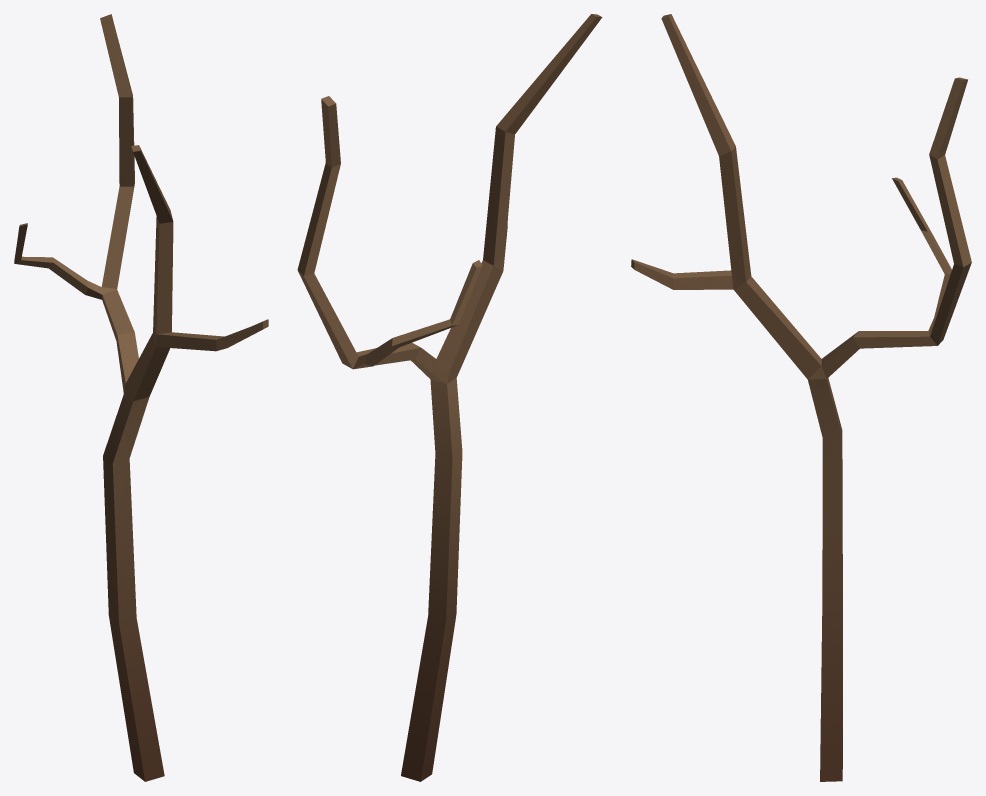
Rendered from Tree3_Winter.FBX.
3 views of the same model, side by side, from view 1: azimuth 30°, elevation 25°; view 2: azimuth 150°, elevation 25°; view 3: azimuth 270°, elevation 25° (orthographic).
Visible parts, largest first — view 1: Tree3_Winter; view 2: Tree3_Winter; view 3: Tree3_Winter.
Part boxes in pixels (left/top/right/bottom): Tree3_Winter: left=14, top=14, right=268, bottom=781; Tree3_Winter: left=297, top=14, right=602, bottom=781; Tree3_Winter: left=631, top=14, right=971, bottom=781.
Bounding box in the file's own units: 154 × 696 × 300.
